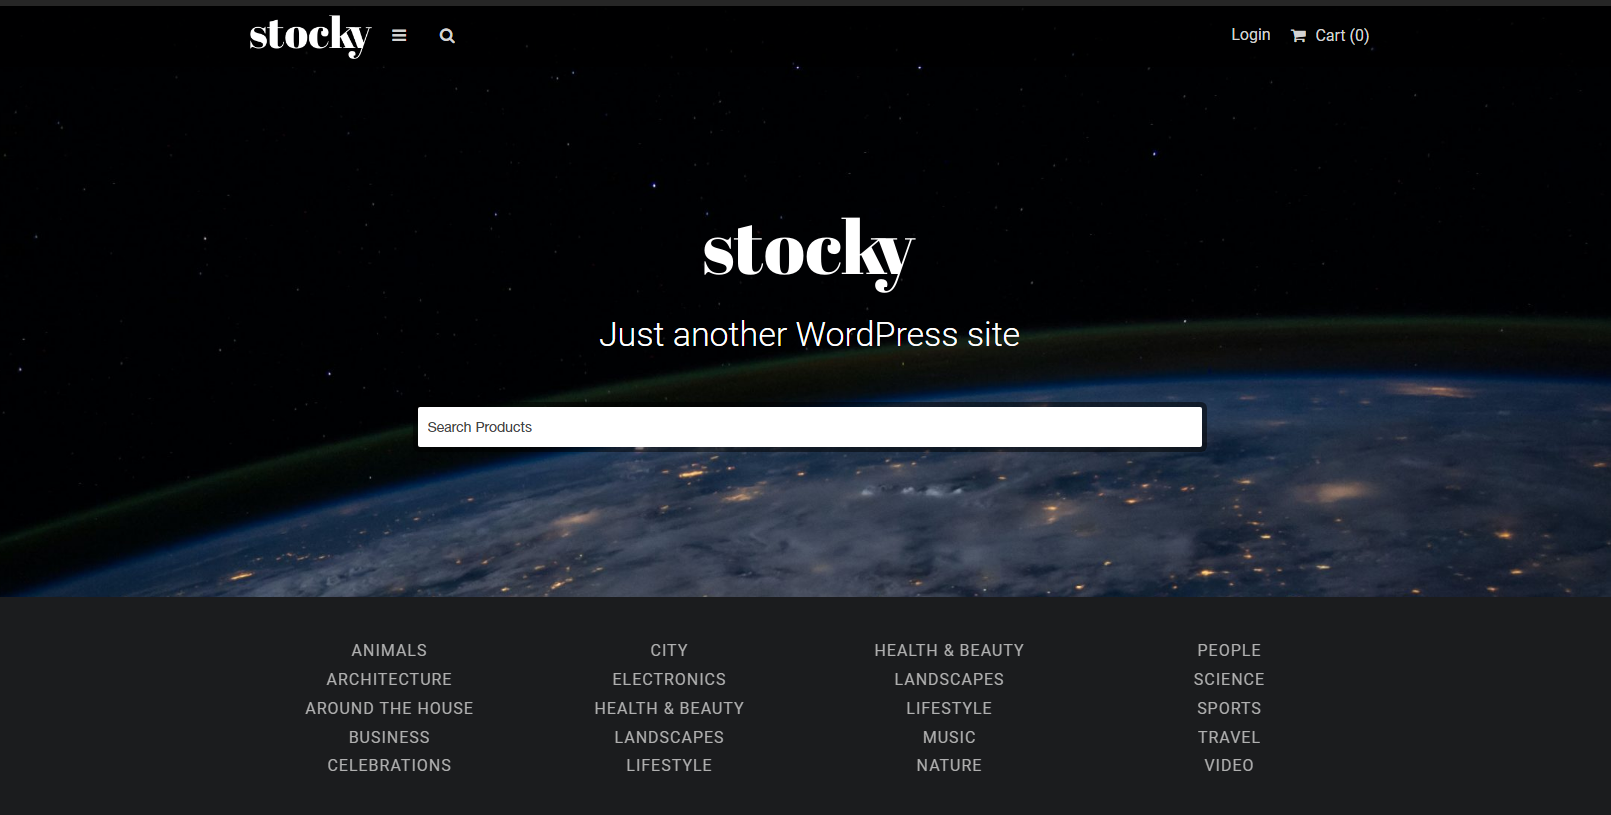menu: (18, 11, 1591, 203)
